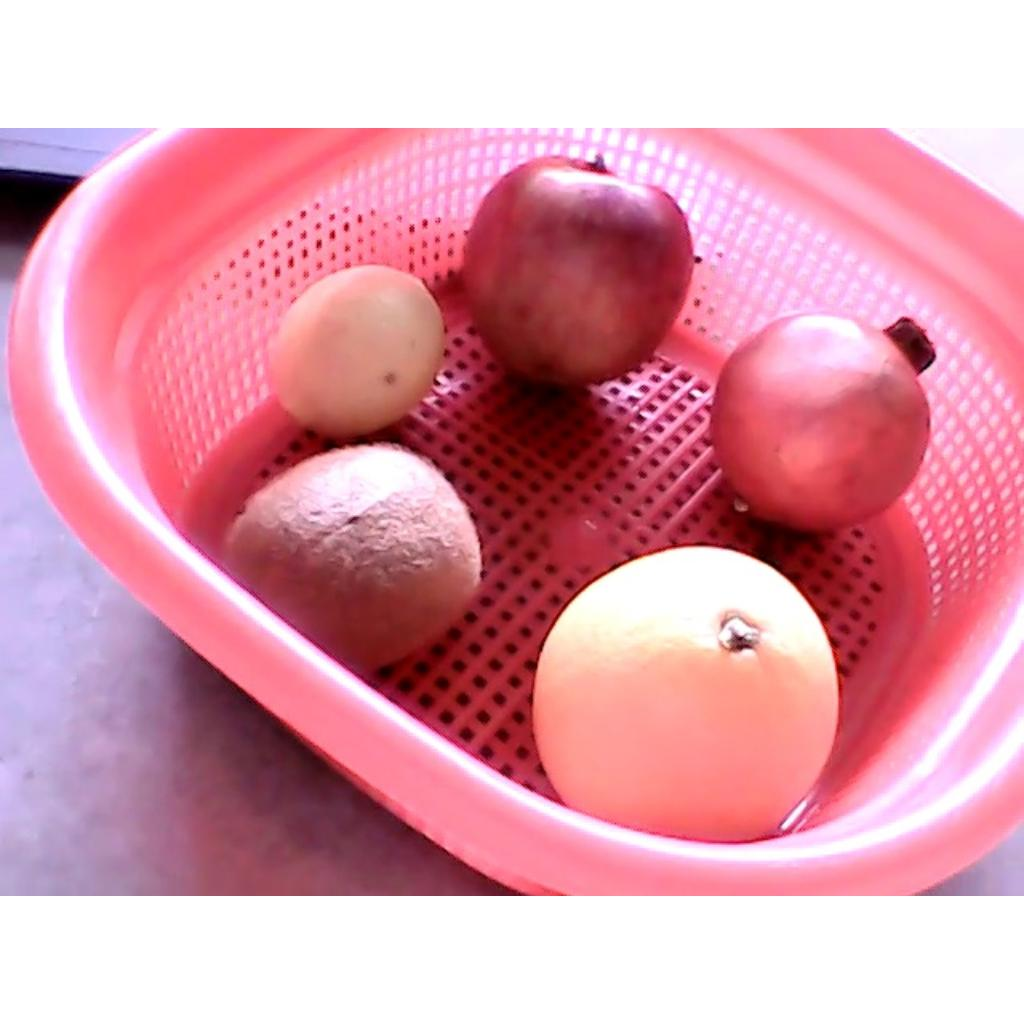apple: (462, 155, 694, 388)
kiwi: (216, 443, 481, 670)
lemon: (271, 266, 444, 436)
orange: (533, 545, 841, 844)
pomegranate: (708, 312, 939, 535)
